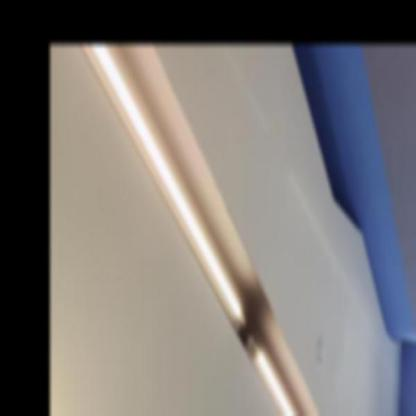light_on: (79, 44, 251, 334), (243, 327, 322, 415)
